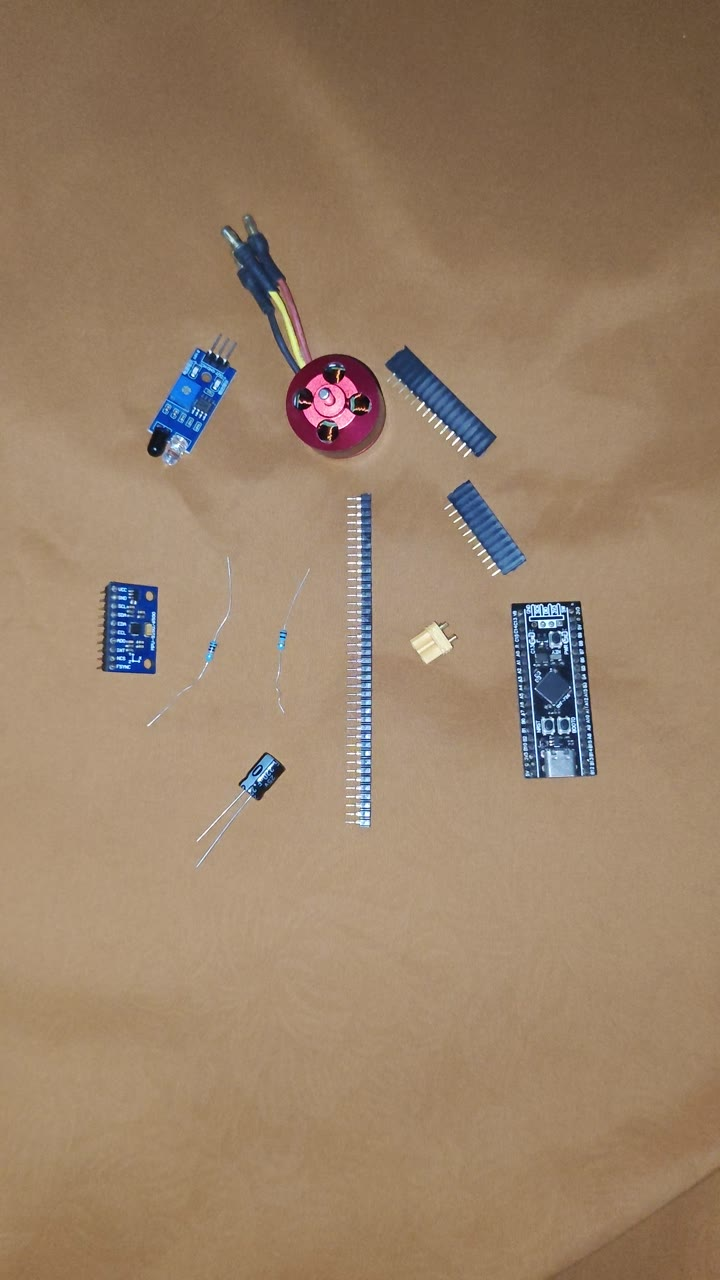bldc_motor: (212, 283, 390, 442)
elco_capacitor: (234, 749, 287, 804)
ir_sensor: (143, 343, 238, 459)
mpu6500: (99, 578, 160, 671)
pin_header: (322, 459, 406, 823), (379, 341, 501, 440), (441, 435, 529, 572)
resistor: (155, 523, 250, 724), (252, 534, 323, 722)
stm32f4: (507, 593, 598, 785)
xt30_female: (408, 619, 457, 664)
